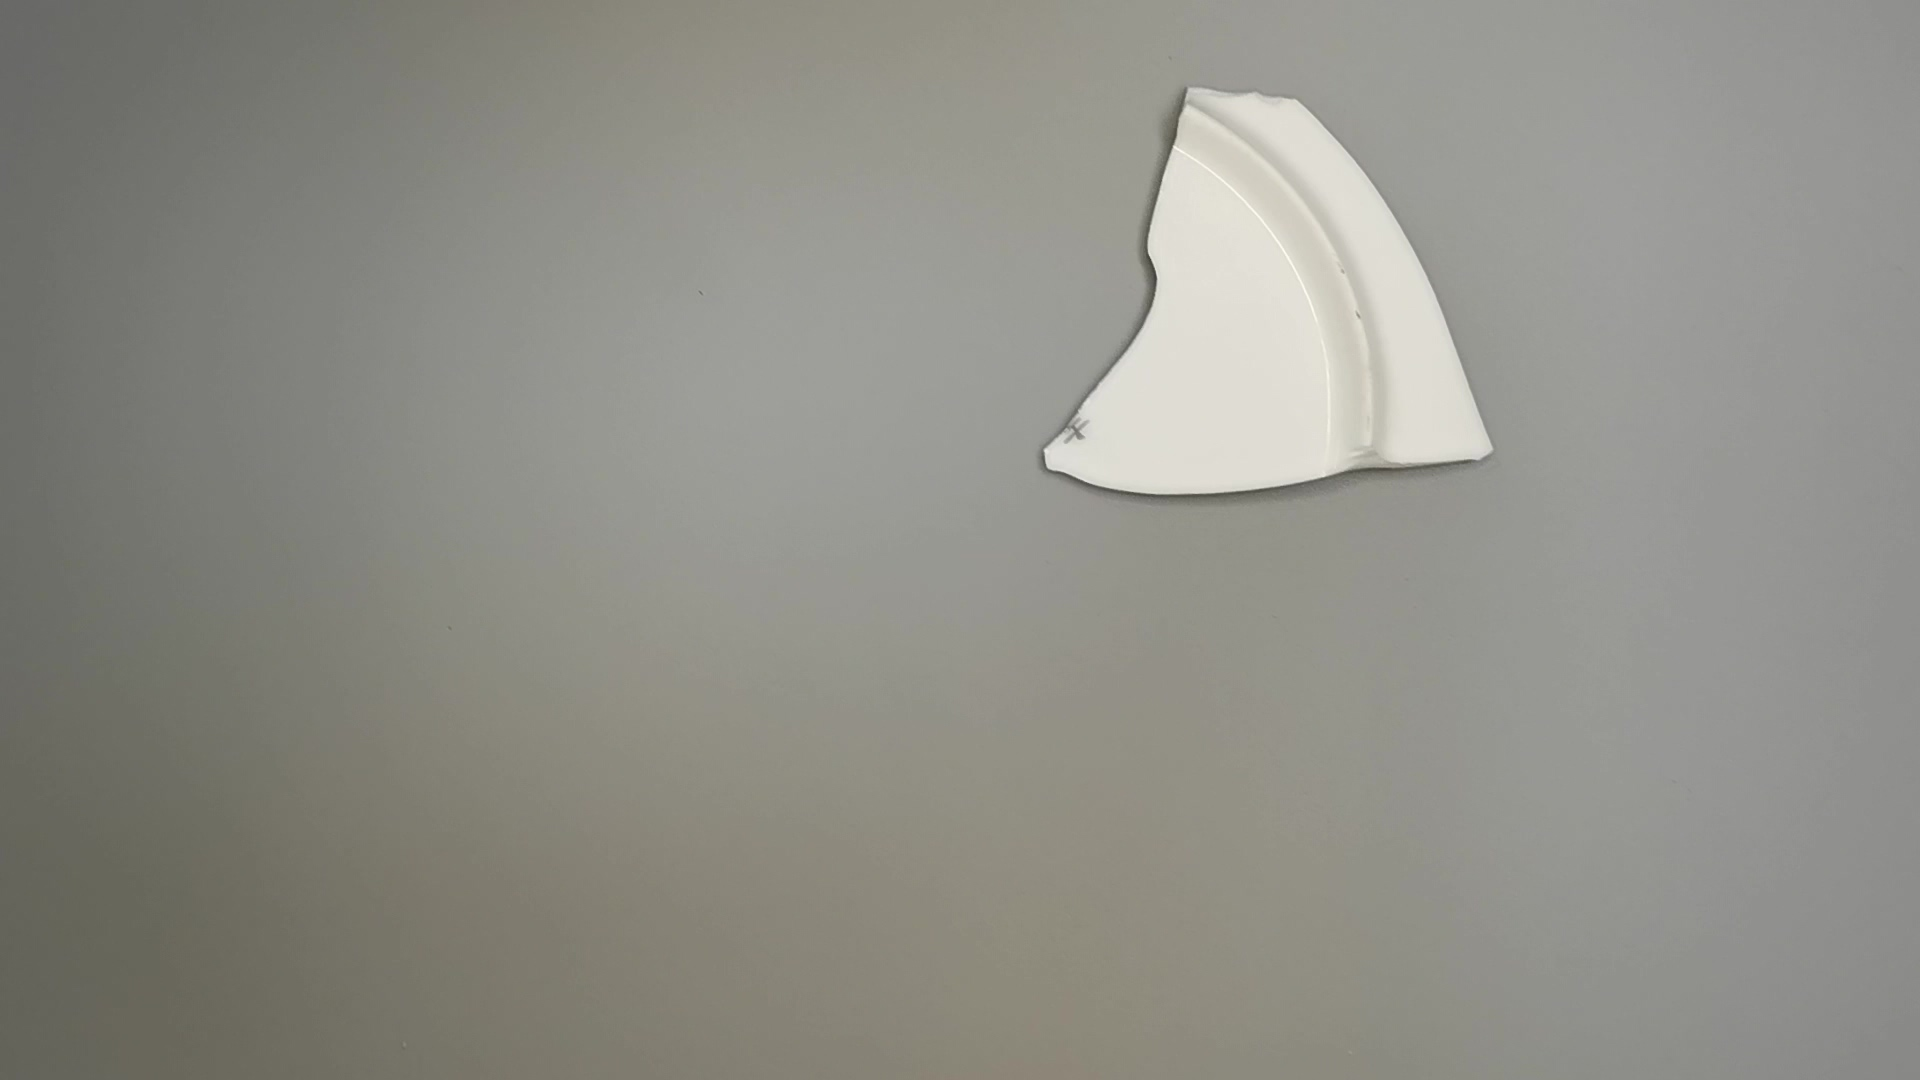ceramic: (1019, 82, 1495, 502)
